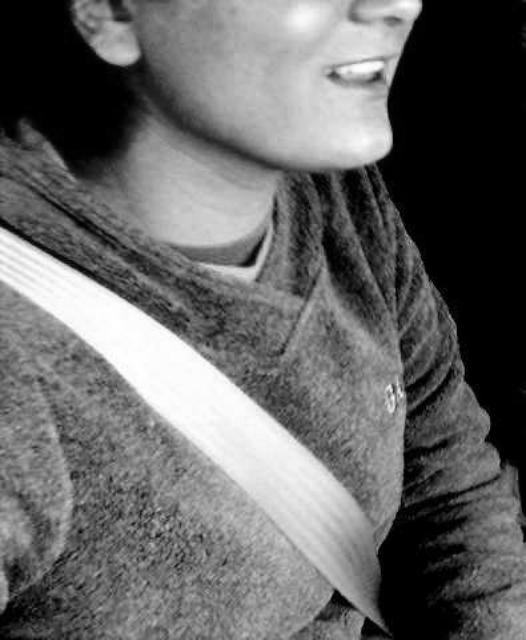Seatbelt: (0, 218, 390, 640)
